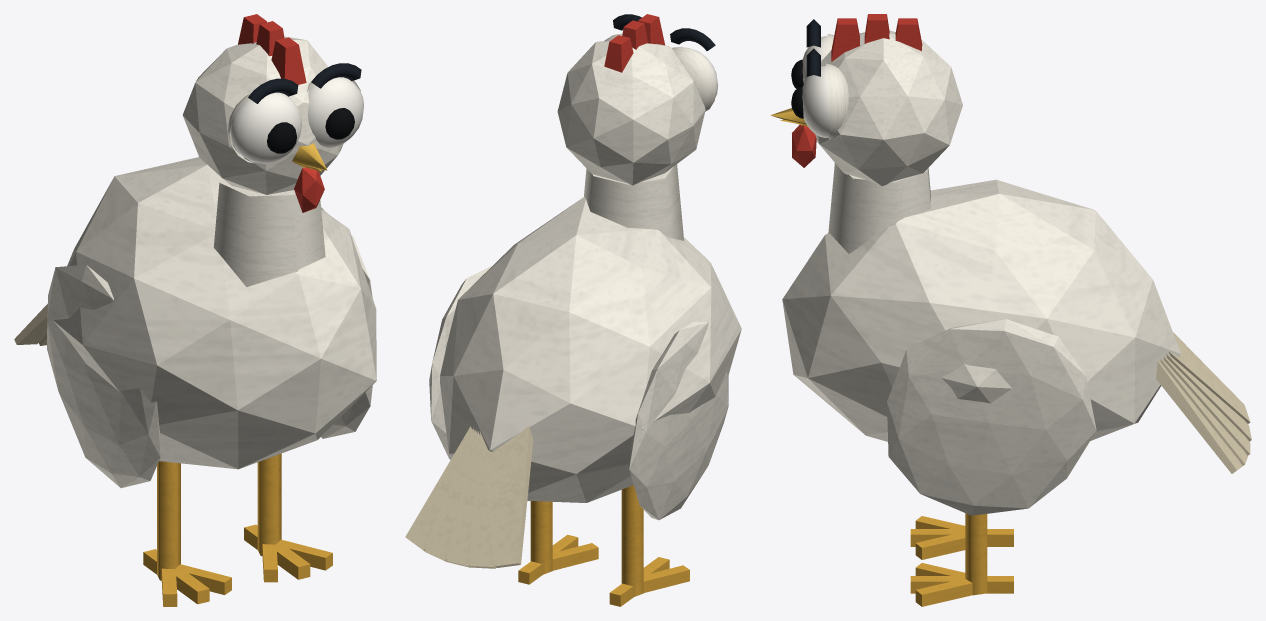
Rendered from chicken.glb.
3 views of the same model, side by side, from view 1: azimuth 30°, elevation 25°; view 2: azimuth 150°, elevation 25°; view 3: azimuth 270°, elevation 25° (orthographic). The views are drawn at different scales.
Visible parts, largest first — view 1: body, head, wingR, neck, hipR, footL, footR, hipL, wingL, jaw, tail; view 2: body, head, tail, wingR, neck, hipR, wingL, footR, footL, hipL; view 3: body, wingL, head, tail, neck, footL, footR, hipL, jaw.
Part boxes in pixels (bbox=[...]): body: bbox=[47, 157, 376, 469]; head: bbox=[182, 14, 363, 194]; wingR: bbox=[47, 265, 160, 487]; neck: bbox=[213, 177, 325, 287]; hipR: bbox=[157, 461, 180, 580]; footL: bbox=[244, 524, 332, 582]; footR: bbox=[143, 549, 231, 606]; hipL: bbox=[257, 453, 281, 556]; wingL: bbox=[321, 207, 372, 438]; jaw: bbox=[294, 163, 324, 212]; tail: bbox=[14, 304, 47, 345]; body: bbox=[440, 197, 741, 502]; head: bbox=[557, 14, 717, 185]; tail: bbox=[405, 426, 533, 568]; wingR: bbox=[629, 322, 728, 520]; neck: bbox=[584, 164, 683, 240]; hipR: bbox=[621, 485, 643, 597]; wingL: bbox=[429, 266, 491, 459]; footR: bbox=[609, 557, 689, 606]; footL: bbox=[518, 534, 598, 584]; hipL: bbox=[530, 501, 552, 574]; body: bbox=[782, 179, 1180, 441]; wingL: bbox=[887, 319, 1096, 515]; head: bbox=[770, 14, 962, 185]; tail: bbox=[1156, 332, 1251, 473]; neck: bbox=[828, 163, 930, 253]; footL: bbox=[910, 563, 1013, 606]; footR: bbox=[910, 516, 1013, 559]; hipL: bbox=[965, 513, 987, 595]; jaw: bbox=[780, 119, 816, 167].
Bounding box in the file's own units: 0.2417 × 0.4991 × 0.3961.
14 materials, 11 textured.
